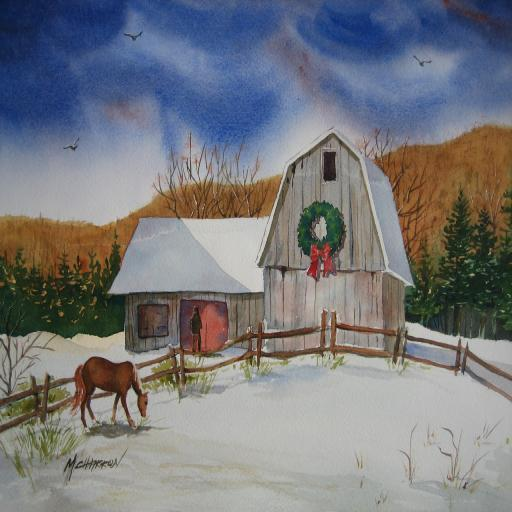horse: (67, 356, 150, 431)
